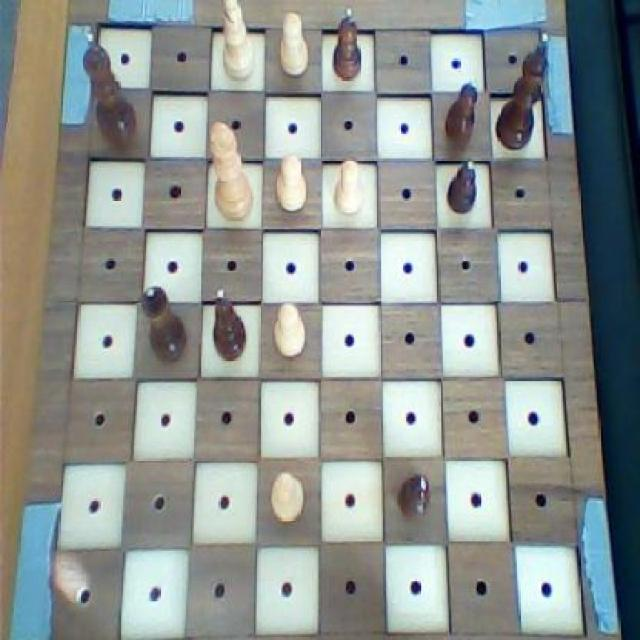bishop: (208, 283, 252, 362)
black-bishop: (492, 29, 552, 154)
black-knight: (442, 72, 480, 151), (329, 6, 363, 83), (442, 156, 479, 220), (394, 468, 433, 522)
black-pawn: (83, 30, 143, 148)
black-queen: (138, 286, 191, 368)
black-rook: (215, 0, 260, 85)
white-bishop: (204, 115, 254, 228)
white-knight: (276, 8, 312, 80), (272, 298, 308, 362), (274, 151, 308, 216), (331, 156, 365, 220), (270, 468, 306, 527)
